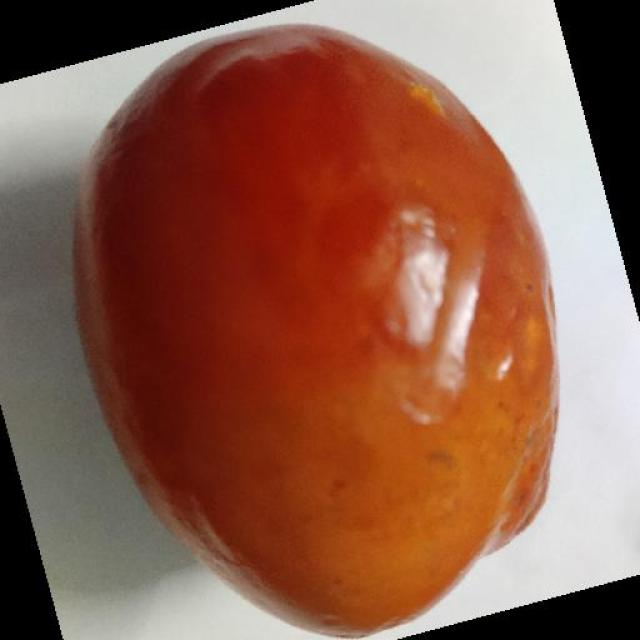Stale_tomato: (90, 61, 546, 576)
